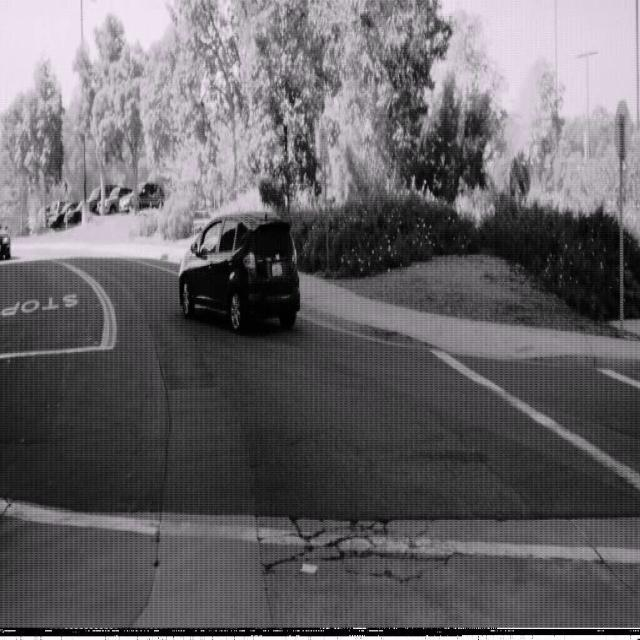pedestrianCrossing: (57, 173, 73, 203)
